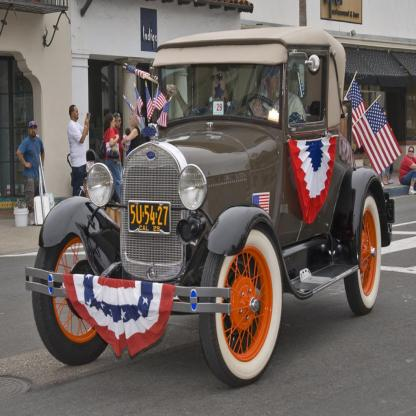Car: (25, 22, 396, 389)
